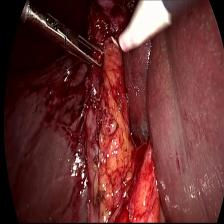Grasper: (41, 12, 106, 79)
Hook: (108, 2, 174, 68)
